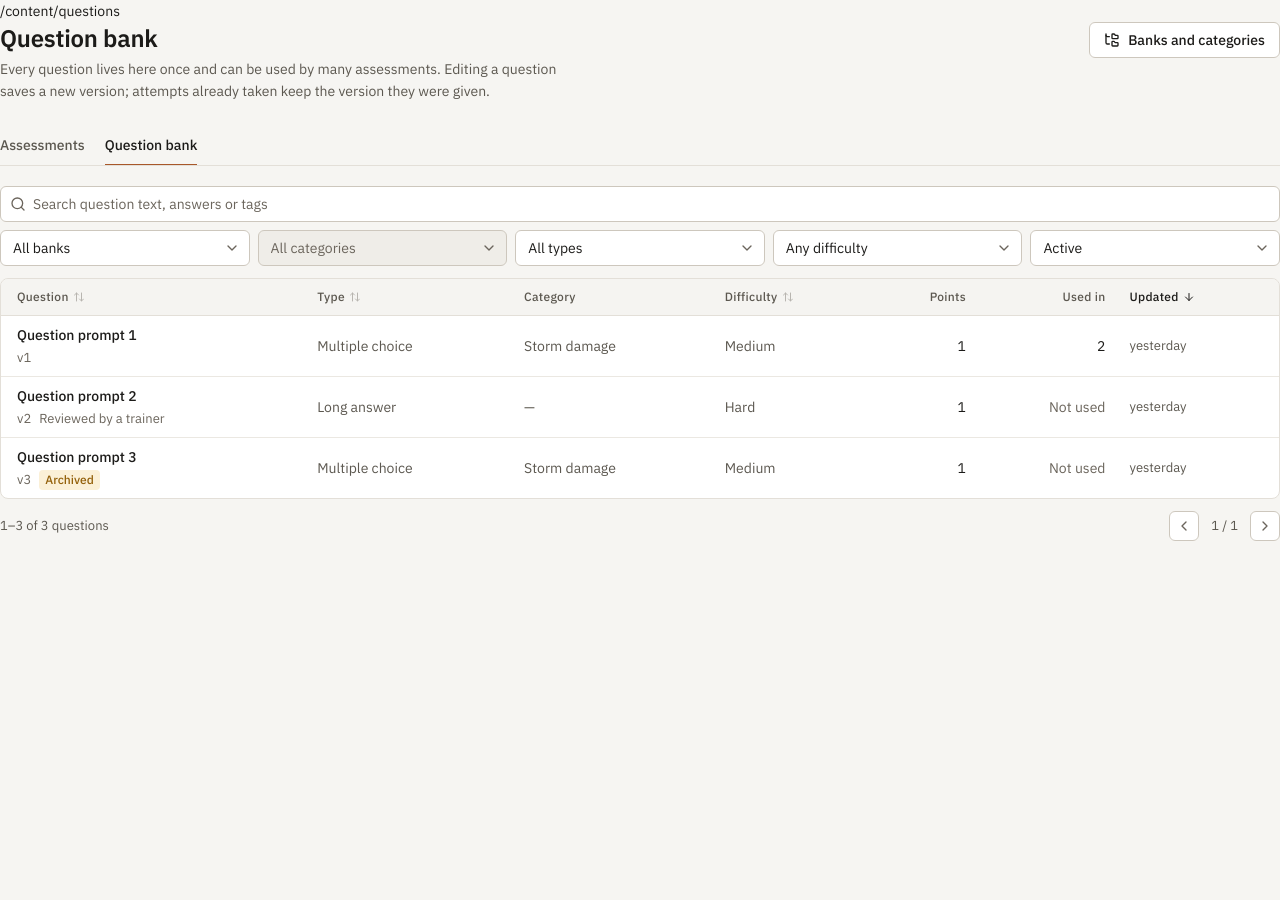
QuestionBankPage › keeps management read-only without update rights
The width and height of the screenshot is (1280, 900).
Check: the table is shown, box [1,279,1279,498]
Click the button "Banks and categories" at [1185, 40], box [1089,22,1279,58]
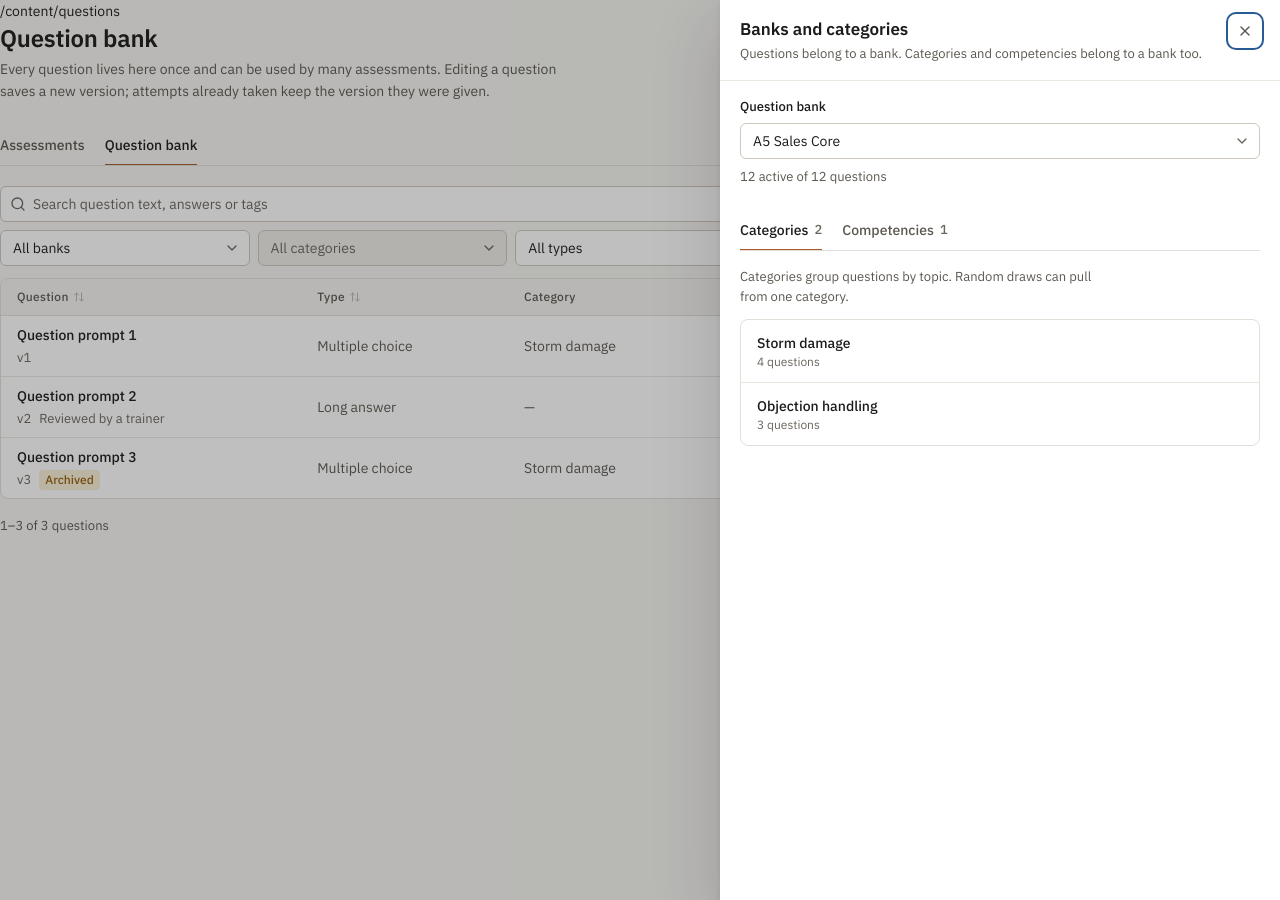
Check: the text "Storm damage" is shown, box [757,334,850,352]
